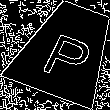P_NE: (36, 20, 98, 81)
